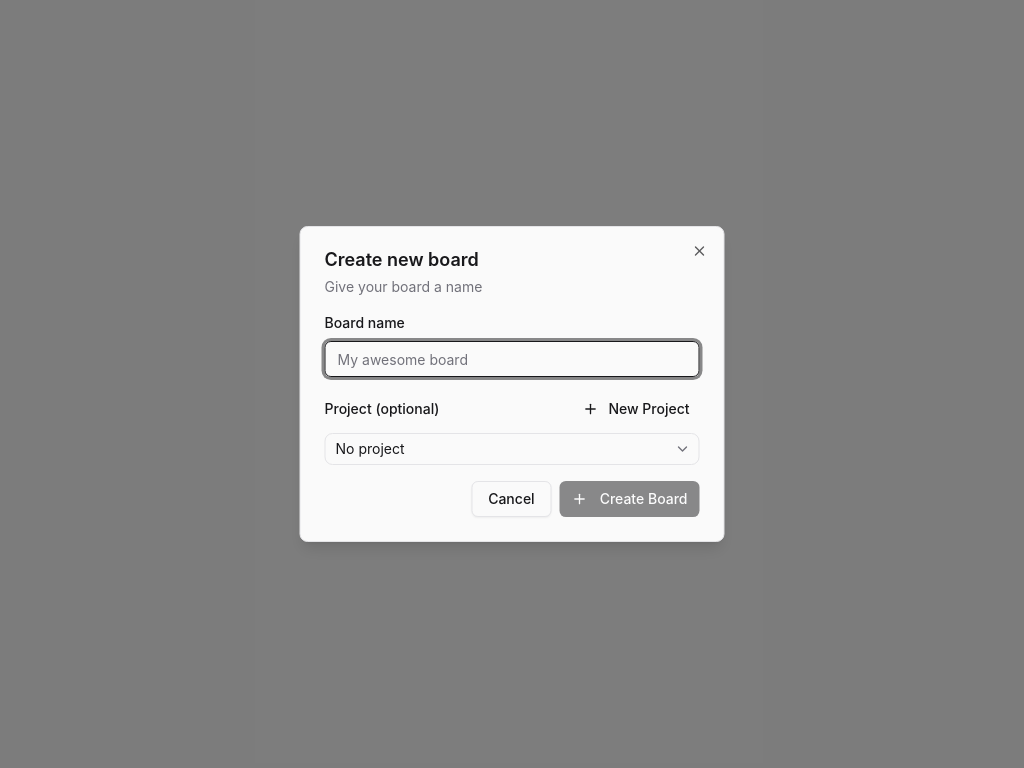
BoardFormModal inline new project › toggles between select and new project modes
Expected: the dropdown named "project (optional)" is shown, [324,433,700,465]
Click the button "New Project" at (636, 409), box [572,393,700,425]
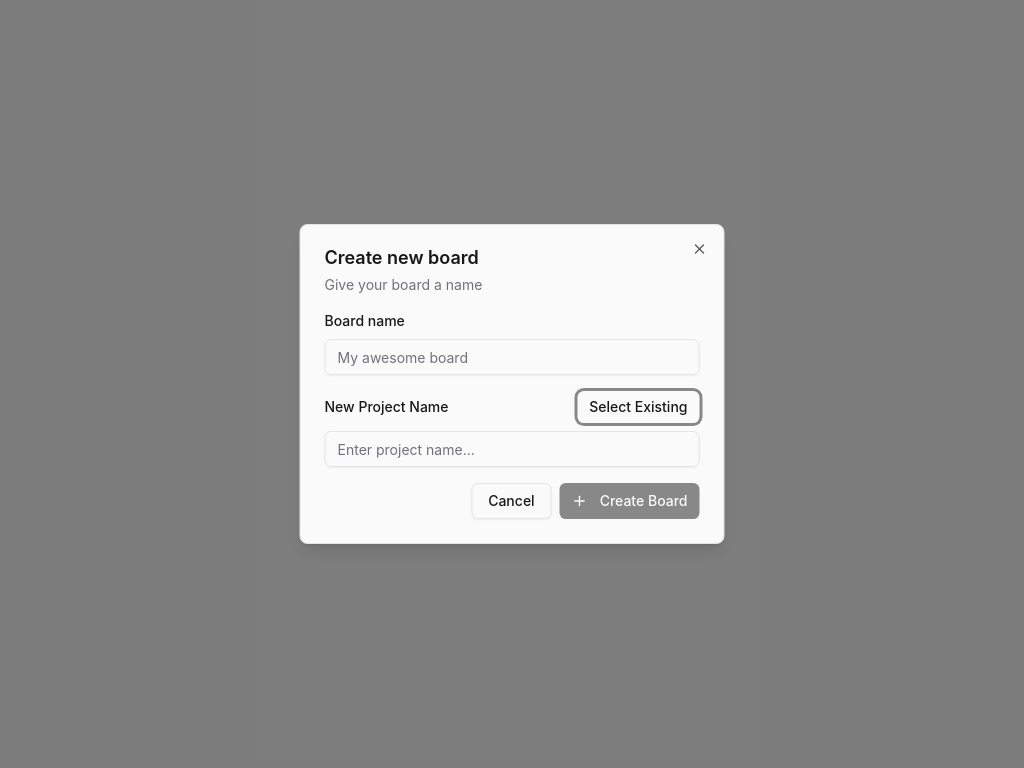
Result: the text "New Project Name" is shown at [324,397,448,417]
Result: the field with placeholder "Enter project name..." is shown at [324,431,700,467]
Result: the label "Project (optional)" is gone
Click the button "Select Existing" at (638, 407), box [577,391,700,423]
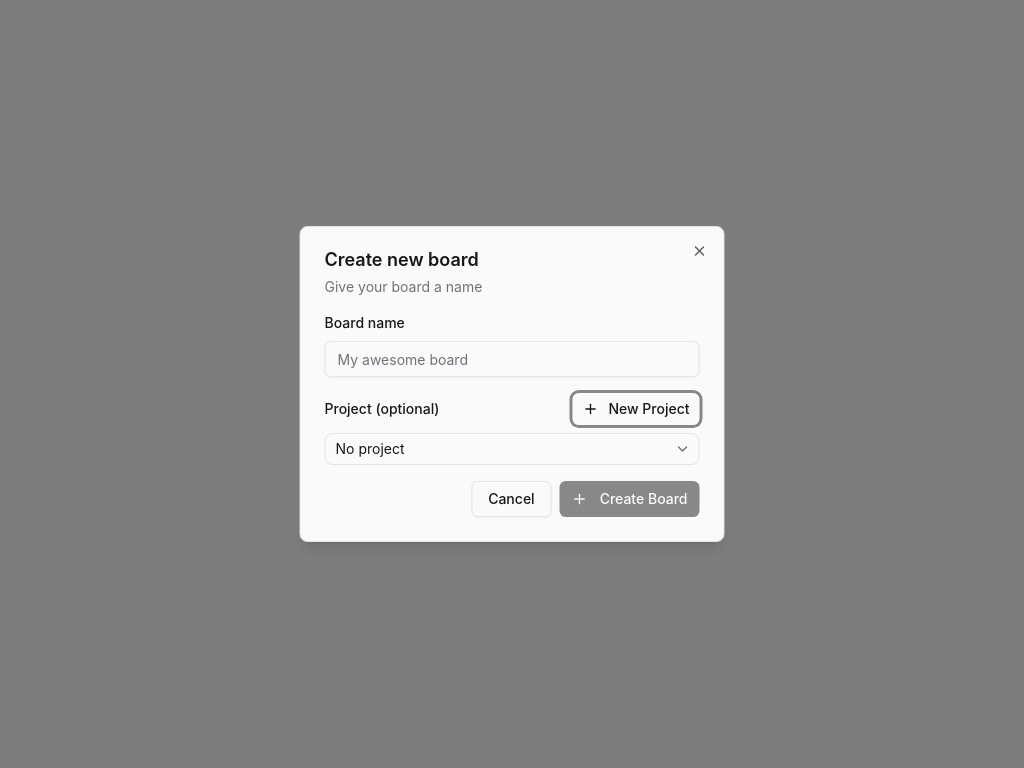
Result: the text "Project (optional)" is shown at [324,399,440,419]
Result: the dropdown named "project (optional)" is shown at [324,433,700,465]
